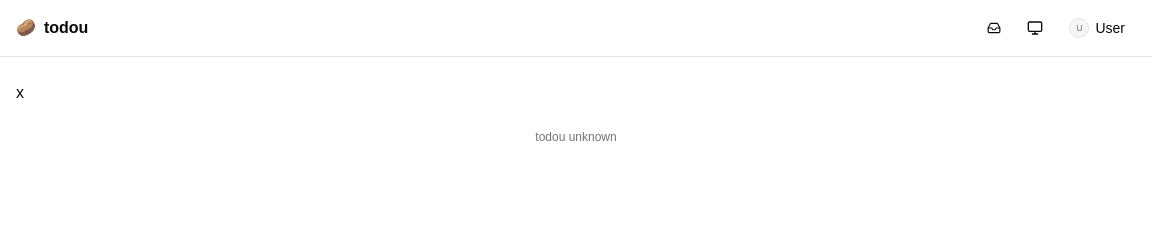
Test case: AppShell logout visibility › offers Log out under session-based modes
Step 1. Press the mouse on the button "U User" → (1097, 28), box x1=1058 y1=14 x2=1136 y2=42
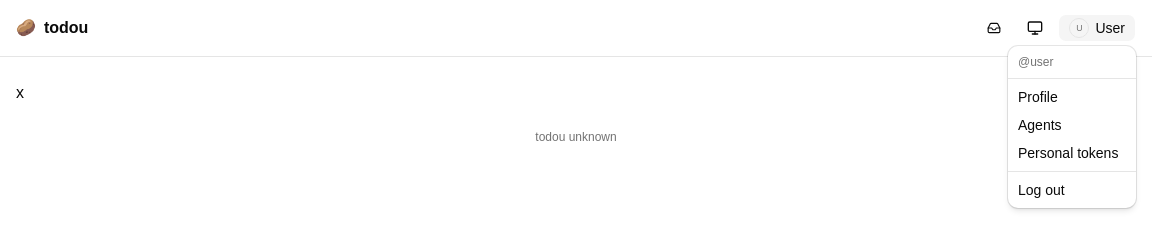
Check: the menu item "Profile" is shown, box x1=1018 y1=89 x2=1058 y2=105
Check: the menu item "Log out" is shown, box x1=1018 y1=182 x2=1065 y2=198
Check: the text "@user" is shown, box x1=1018 y1=55 x2=1054 y2=69
